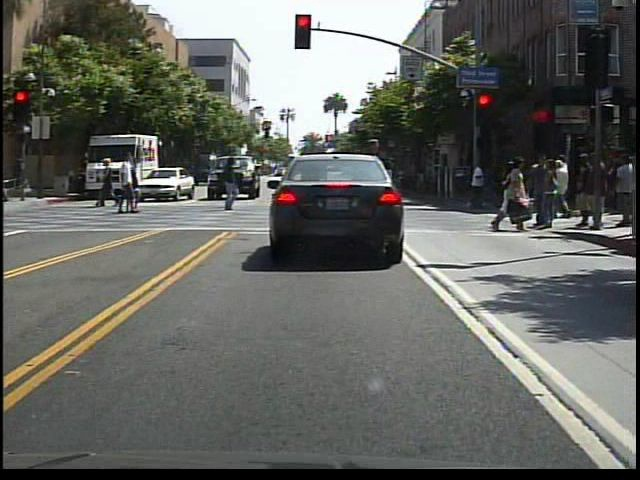person: (347, 119, 389, 246), (492, 156, 535, 236), (113, 154, 146, 222), (548, 152, 574, 224), (215, 157, 247, 215), (99, 156, 121, 213), (468, 156, 486, 217)
